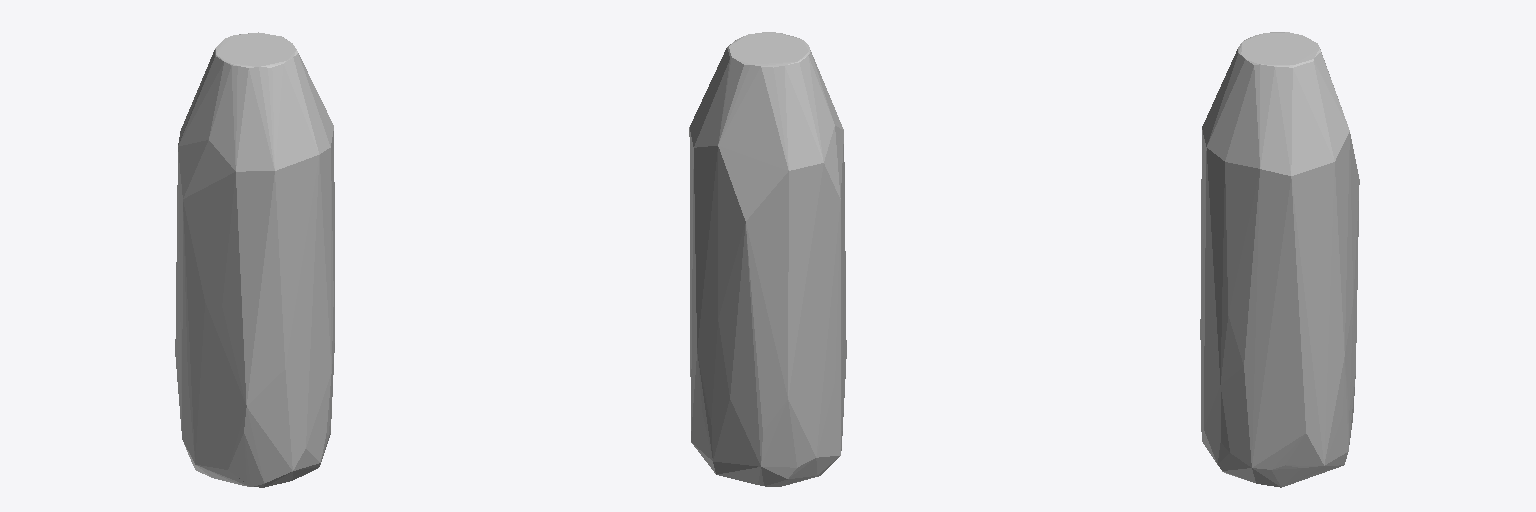
Rendered from waterbottle_collision.obj.
The picture shows the model from 3 angles: view 1: azimuth 30°, elevation 25°; view 2: azimuth 150°, elevation 25°; view 3: azimuth 270°, elevation 25°; orthographic projection.
Bounding box in the file's own units: 0.0343 × 0.0928 × 0.0324.